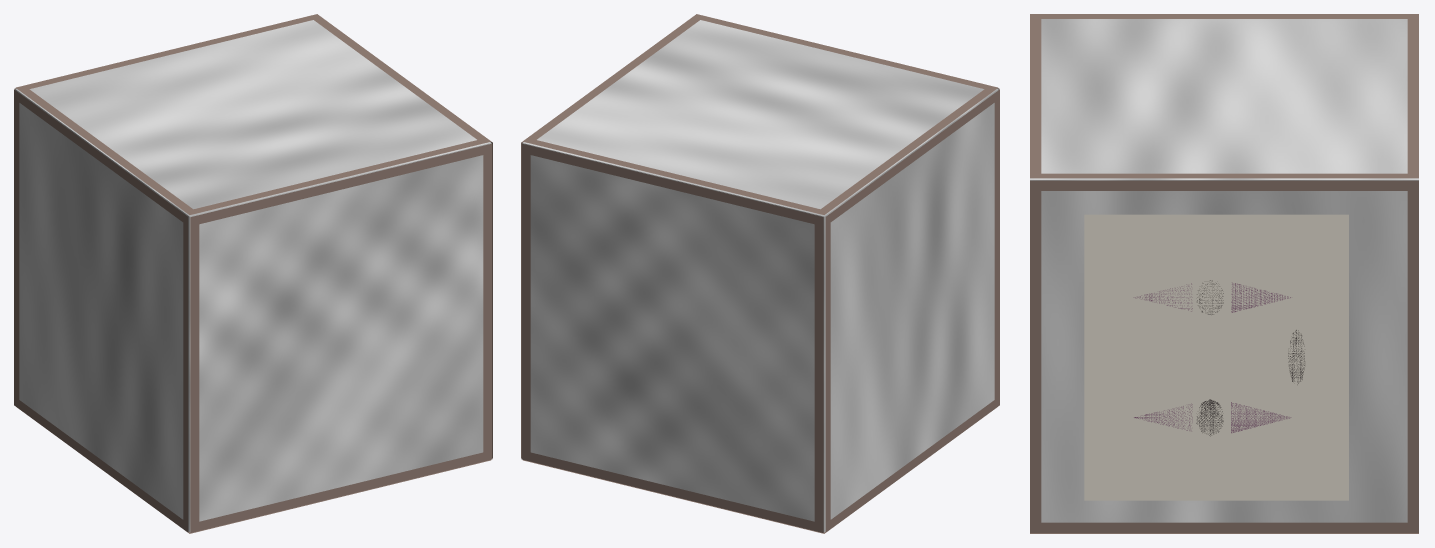
File: noface_head.obj
3 views of the same model, side by side, from view 1: azimuth 30°, elevation 25°; view 2: azimuth 150°, elevation 25°; view 3: azimuth 270°, elevation 25° (orthographic). The views are drawn at different scales.
Parts seen in each view (by area): view 1: body, face; view 2: body, face; view 3: body, face.
Part boxes in pixels (box(x1,y1,x2,y2)): body: box(15, 20, 491, 532); face: box(14, 14, 492, 533); body: box(522, 20, 998, 532); face: box(521, 14, 999, 533); body: box(1030, 19, 1418, 522); face: box(1030, 14, 1418, 533).
Bounding box in the file's own units: 0.689 × 0.686 × 0.686.
Materials: 5 (1 with a texture image).
